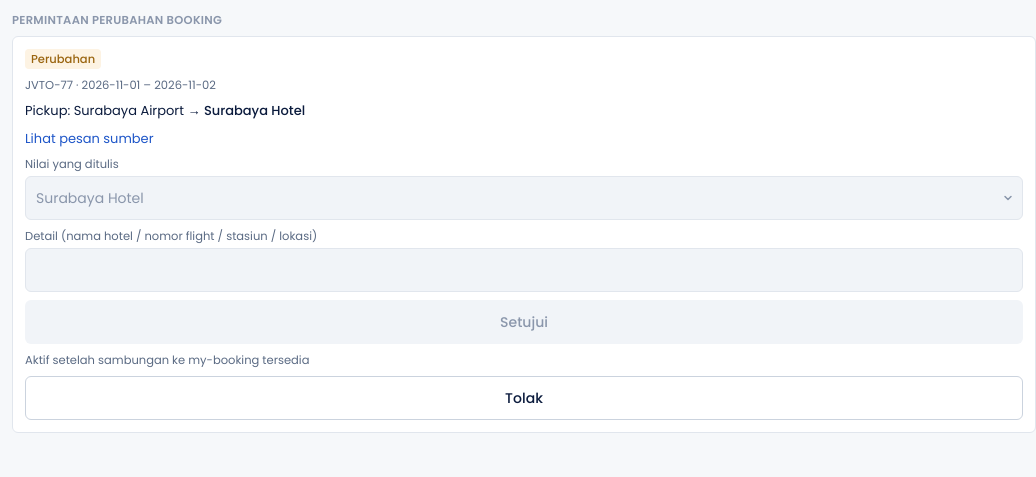
Scenario: BookingActionsSection › shows the server error when PATCH fails (409)
The width and height of the screenshot is (1036, 477).
Click the button "Tolak" at (524,398), box [25, 376, 1023, 420]
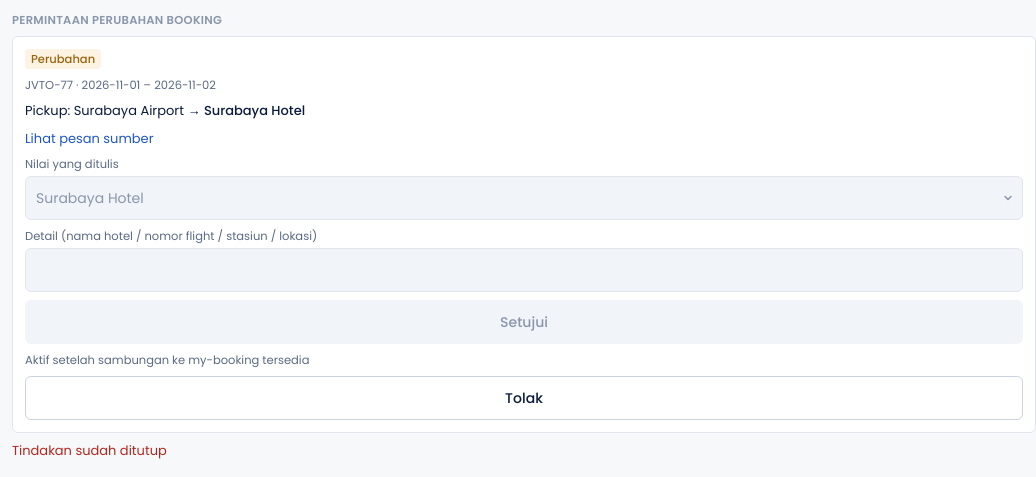
Now the message reads "Tindakan sudah ditutup", box [12, 441, 167, 460]
